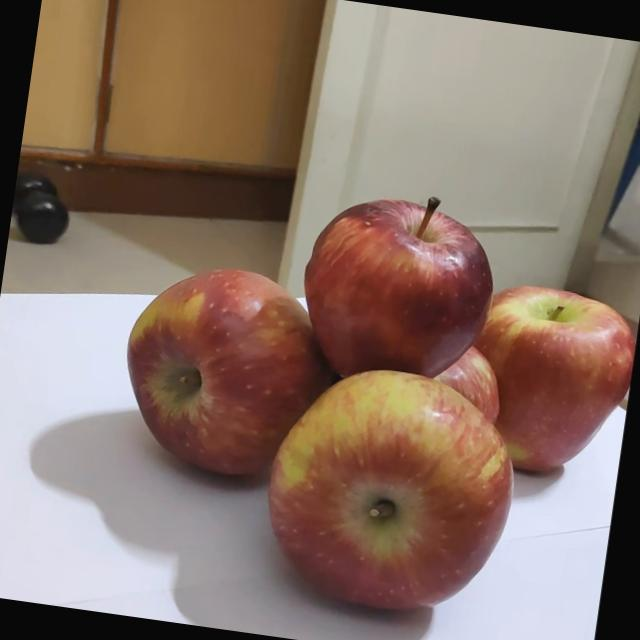apple: (284, 341, 562, 616), (112, 244, 361, 494), (300, 171, 528, 386), (461, 258, 625, 454)
